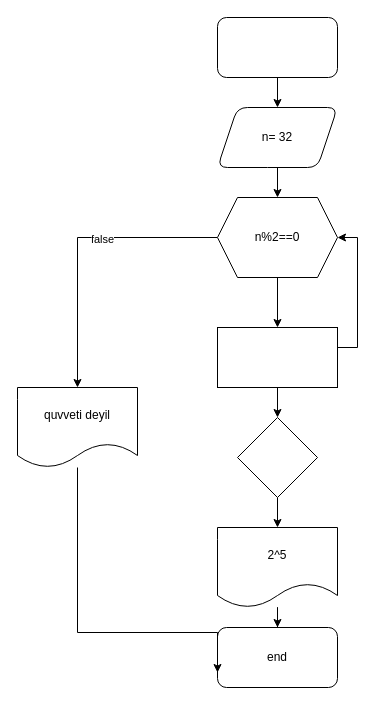
Image size: 383x705. Some labels were removed from this diagram. The shapes that lost their labels are listed below. From the top down, each one's box as (x1, y1, x2, y2) in pixels, then its label:
(216, 16, 338, 78): start
(216, 326, 338, 388): n=n/2
(236, 416, 318, 498): n==1
